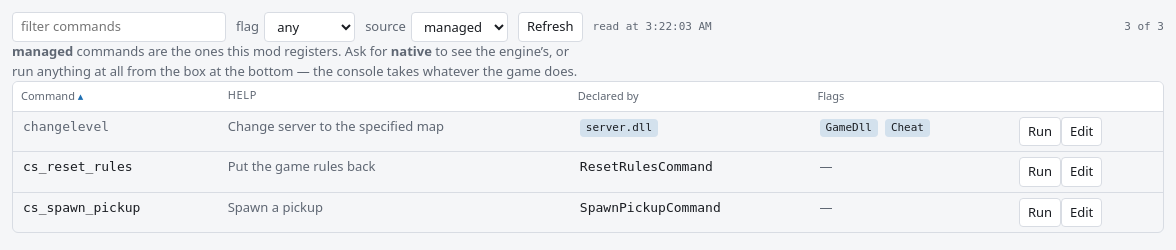
filtering by flag › keeps only the commands carrying it
Expected: the text "changelevel" is shown, [13,111,218,152]
Select "Cheat" in the dropdown labelled "flag". click: (310, 27)
box: [264,12,355,42]
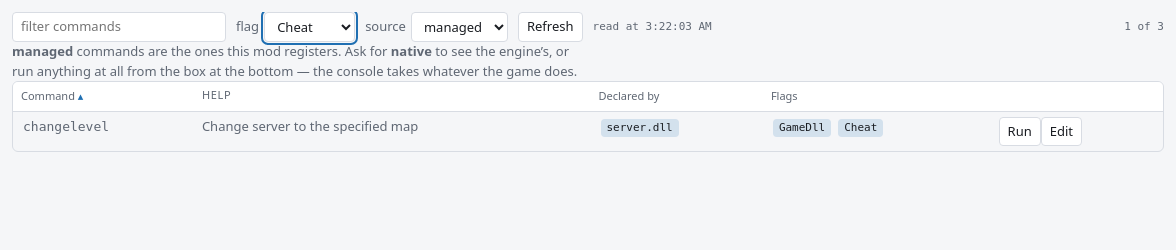
Expected: the text "changelevel" is shown, [13,111,192,151]
Now the text "cs_spawn_pickup" is gone
